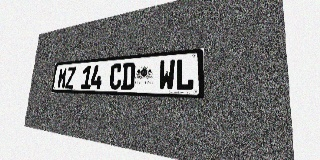1: (81, 65, 93, 89)
4: (90, 65, 103, 89)
C: (109, 63, 123, 89)
D: (121, 62, 136, 90)
L: (175, 58, 194, 91)
M: (57, 67, 68, 89)
W: (158, 59, 175, 90)
Z: (65, 67, 76, 89)
